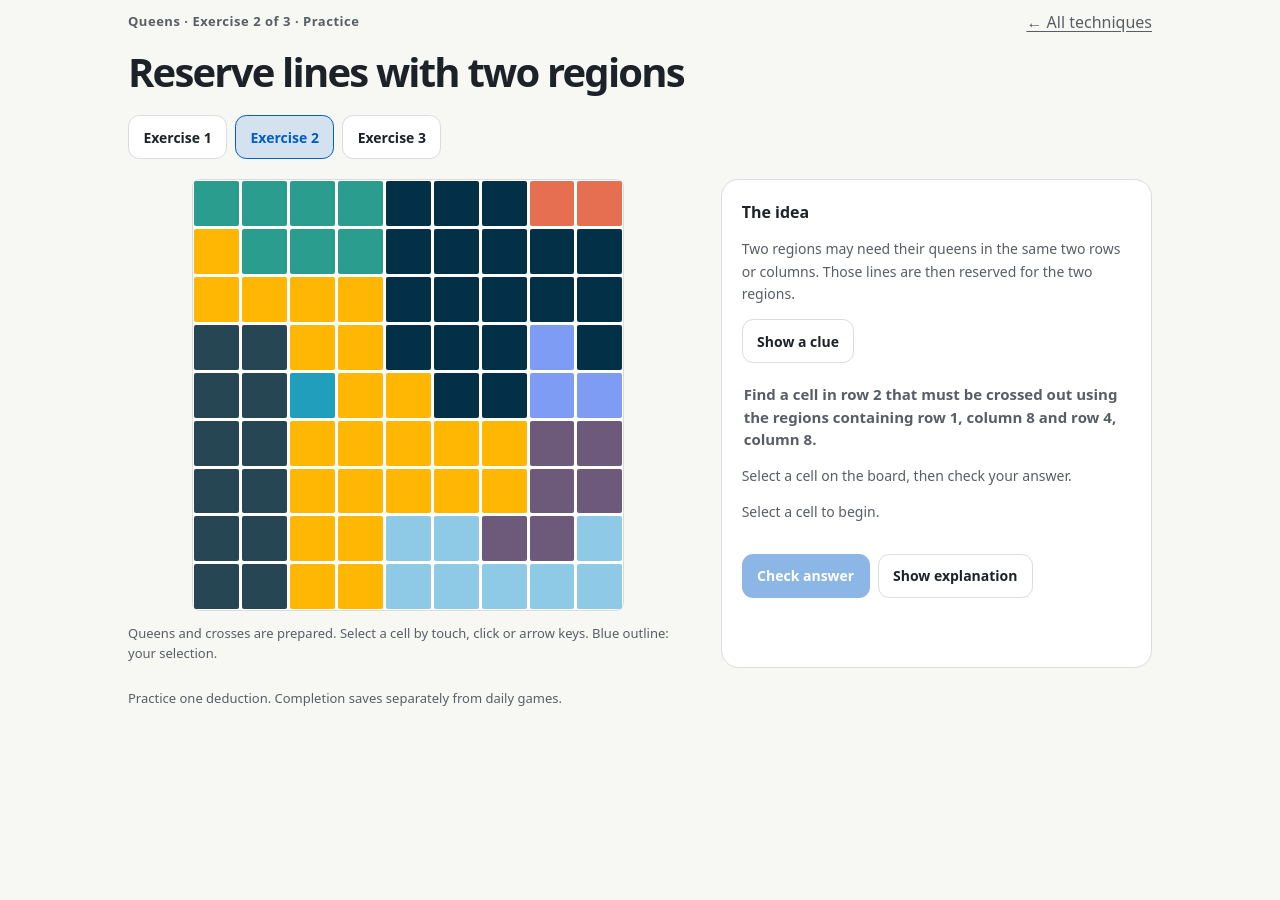
Test case: checks pair practice without affecting daily play
The image size is (1280, 900).
expect the button "Check answer" is disabled: met, box [742, 554, 870, 598]
Click the cell named "Row 1, column 1, empty": {"x": 217, "y": 204} [194, 181, 239, 226]
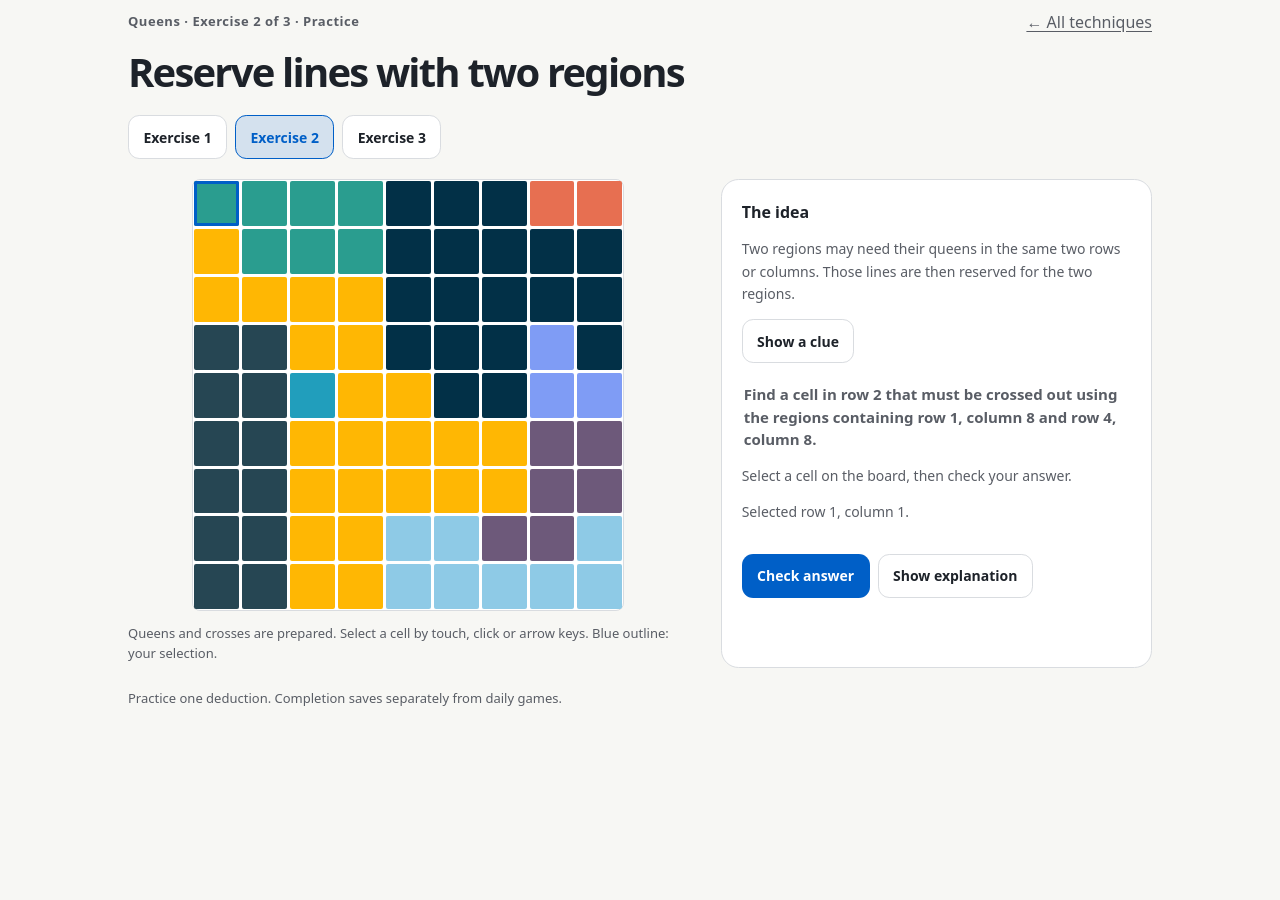
Click the button "Check answer": {"x": 806, "y": 576} [742, 554, 870, 598]
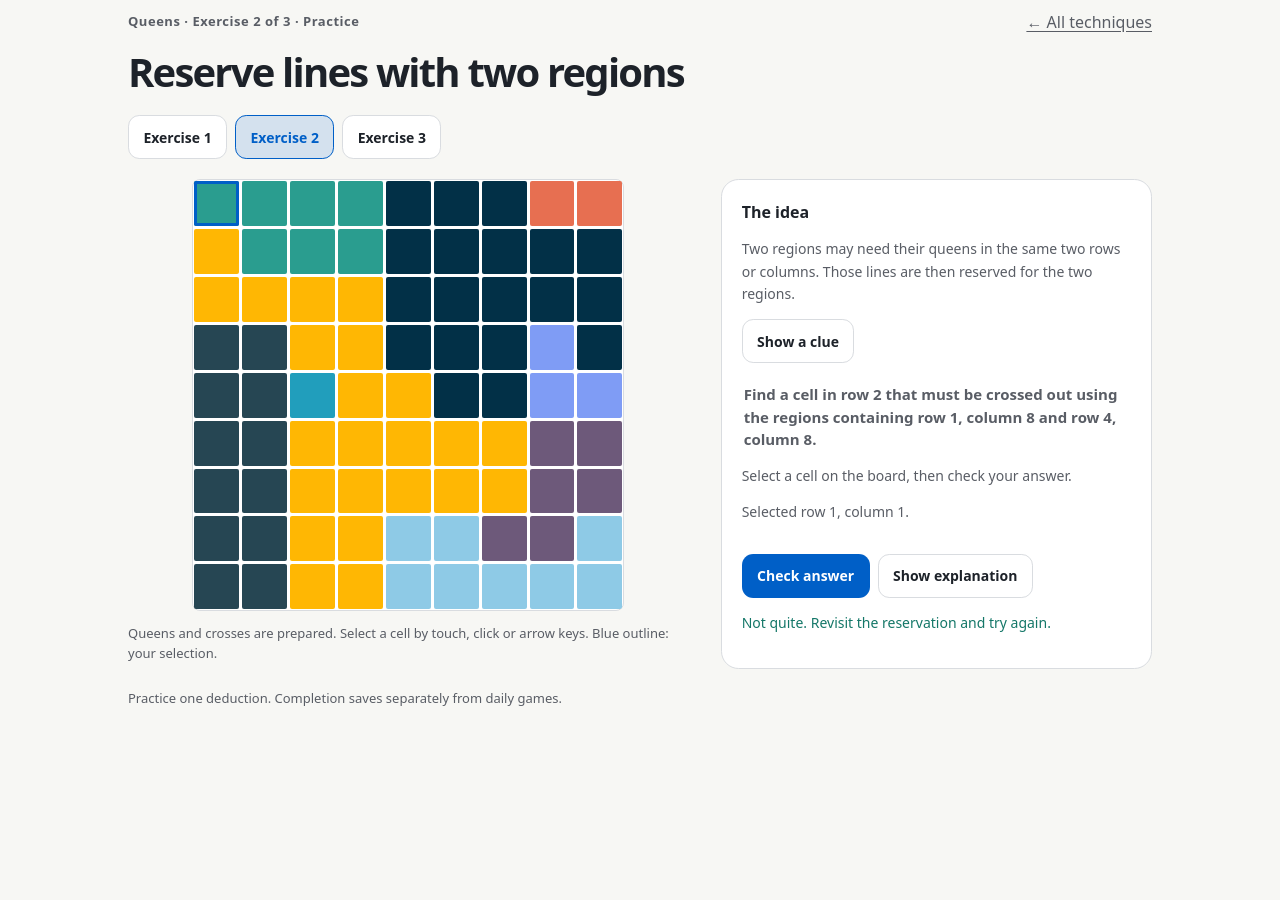
expect the message "Not quite. Revisit the reservation and try again." is shown: met, box [742, 613, 1051, 632]
Click the button "Show explanation": {"x": 955, "y": 576} [878, 554, 1033, 598]
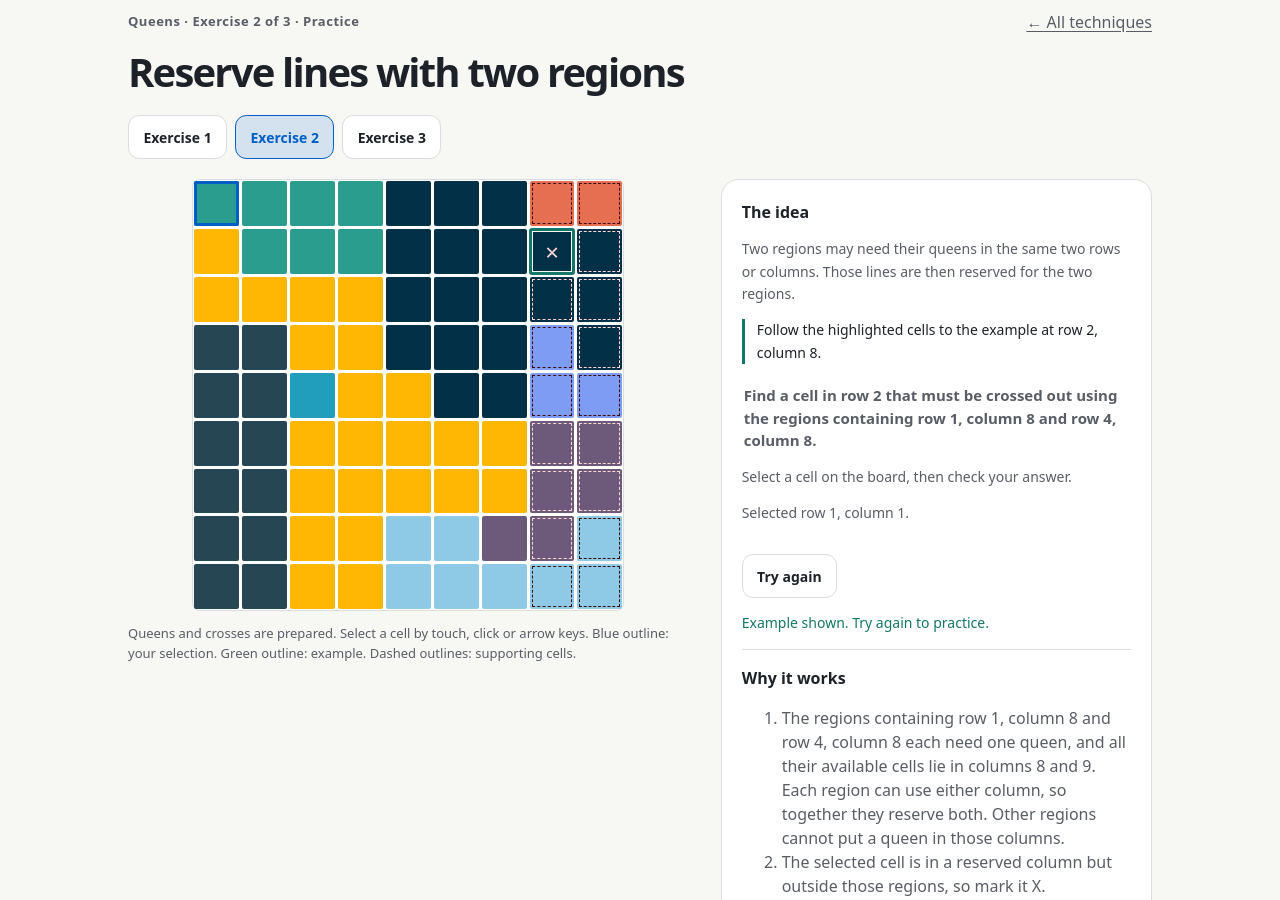
Click the button "Try again": {"x": 789, "y": 576} [742, 554, 837, 598]
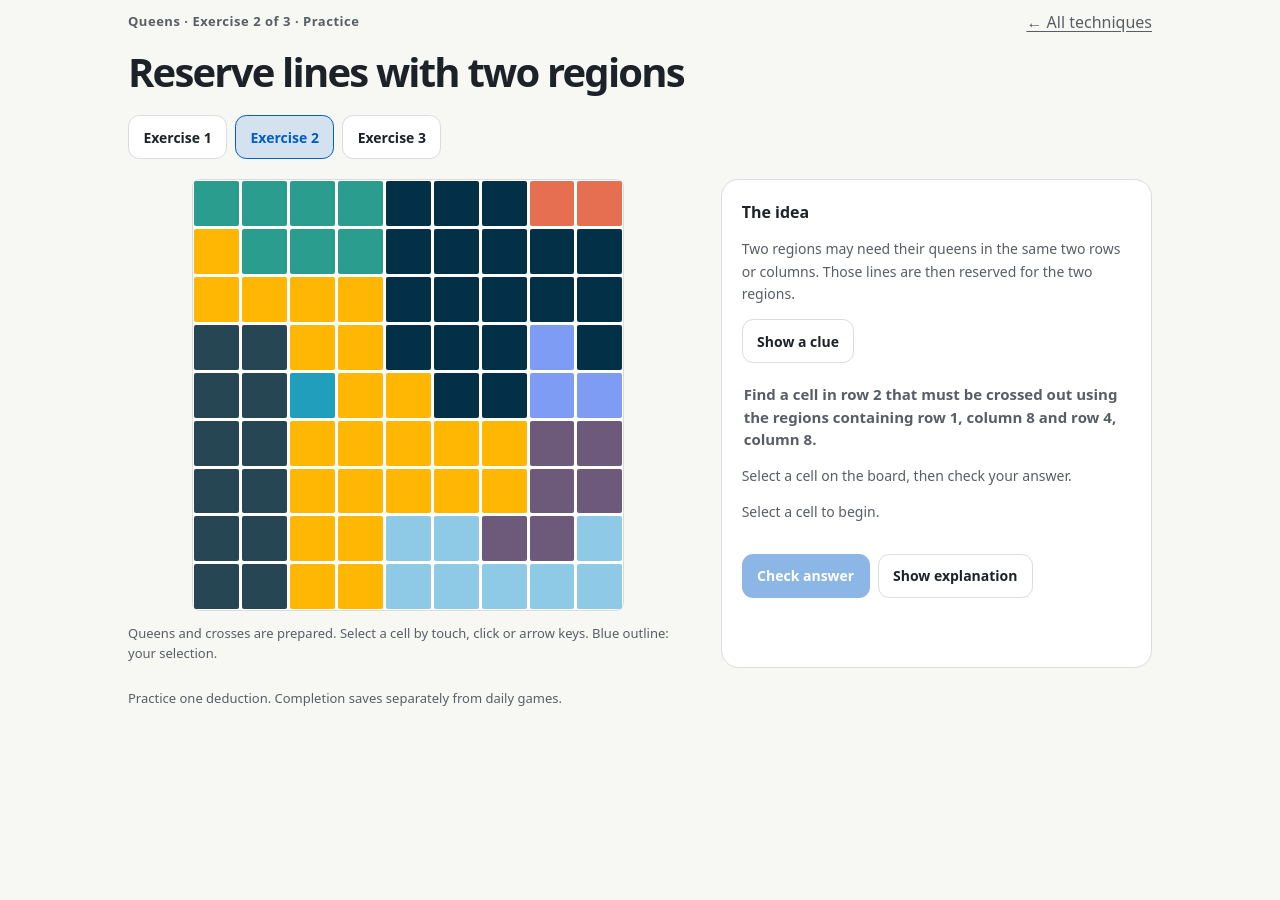
Click the cell named "Row 2, column 9, empty": {"x": 600, "y": 252} [578, 229, 622, 274]
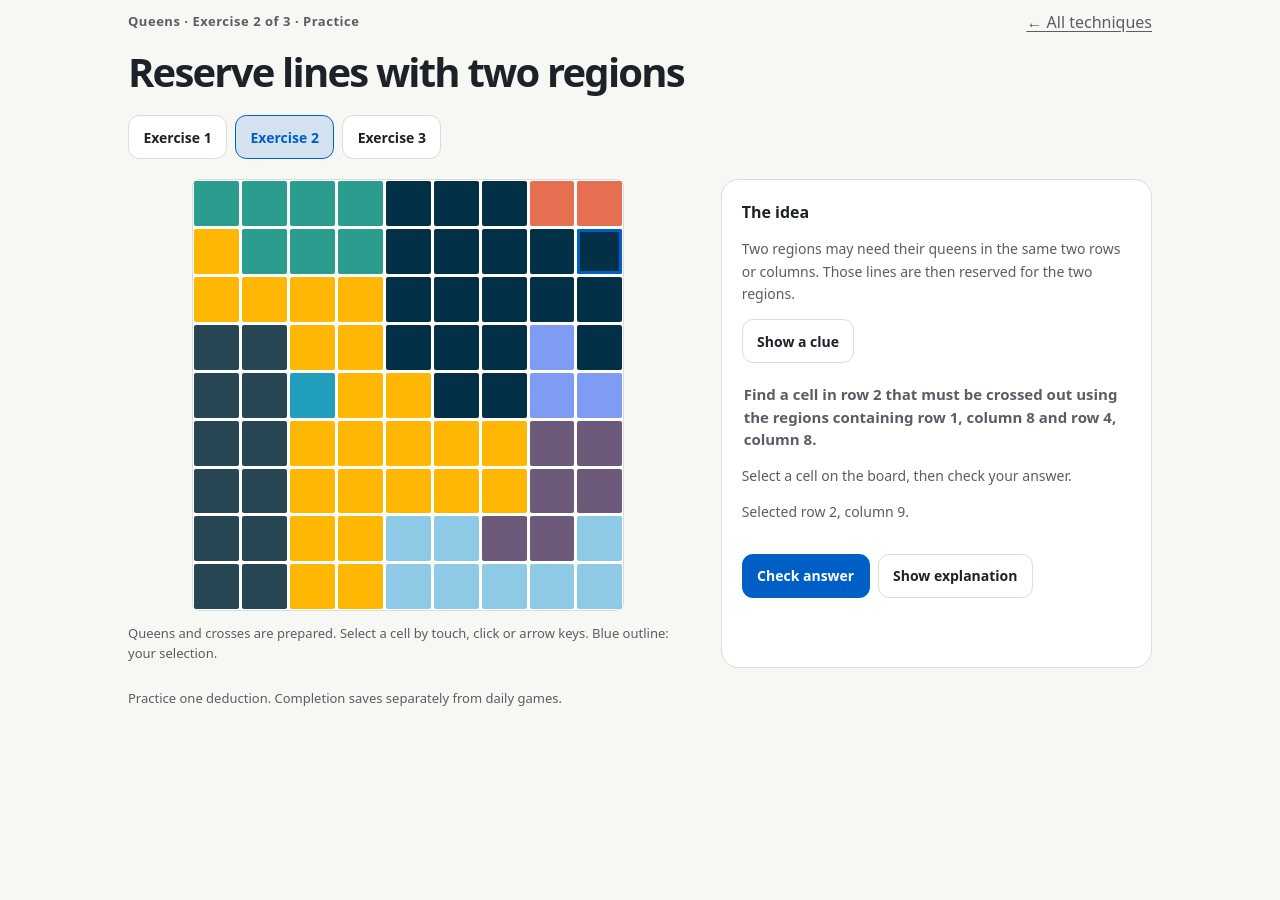
Click the button "Check answer": {"x": 806, "y": 576} [742, 554, 870, 598]
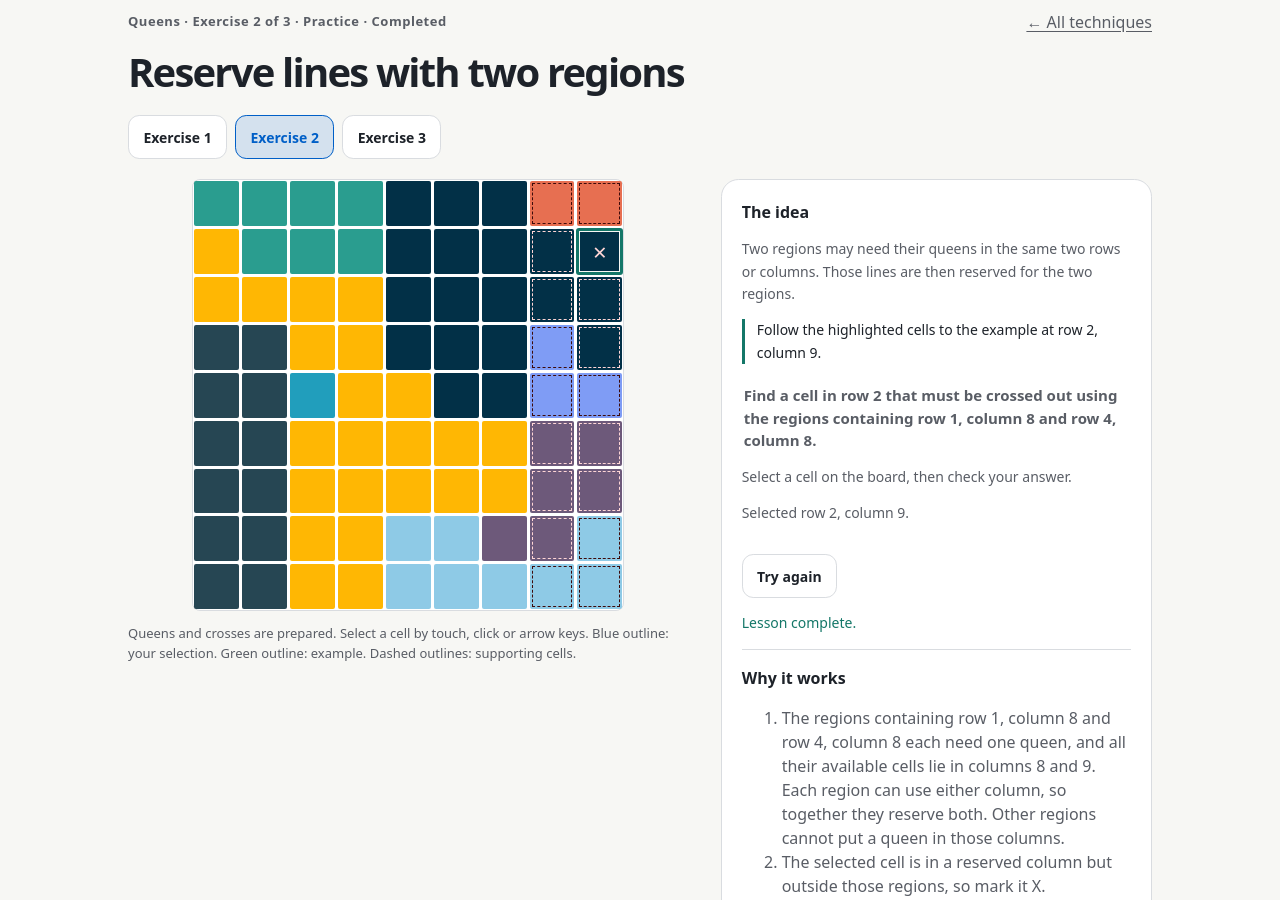
expect the message "Lesson complete." is shown: met, box [742, 613, 856, 632]
